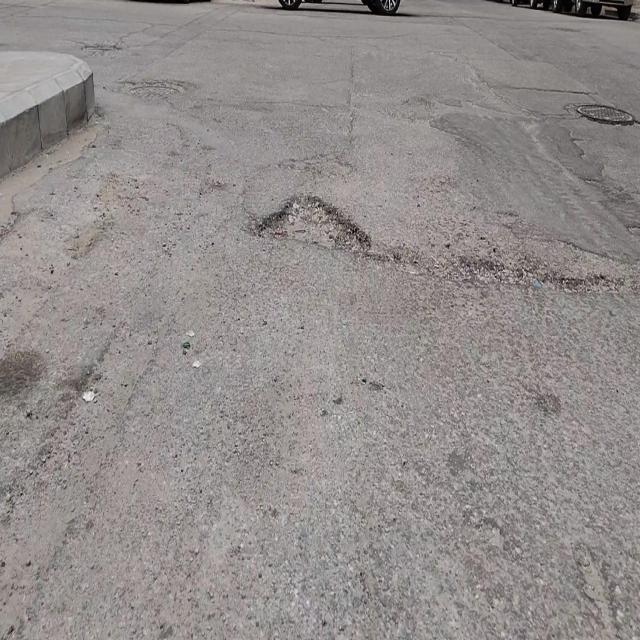Pothole: (255, 191, 373, 261)
